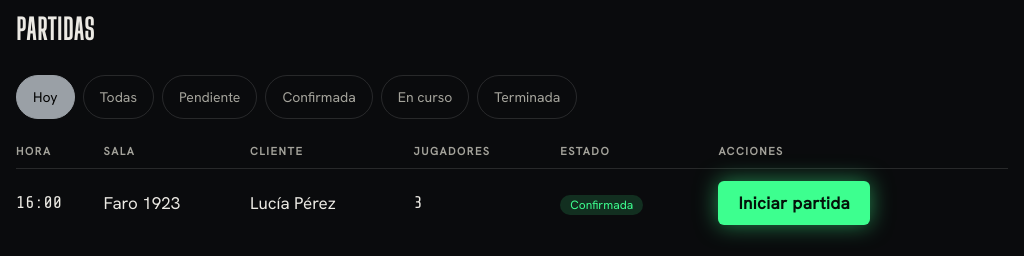
Scenario: StaffPlanningPage › says so when the chosen view is empty
Click the button "En curso".
click(425, 97)  # box [381, 75, 469, 119]
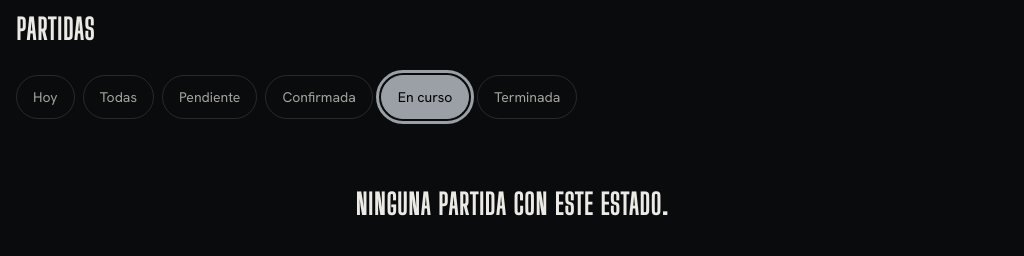
Result: the heading "Ninguna partida con este estado." is shown at [355, 183, 669, 227]
